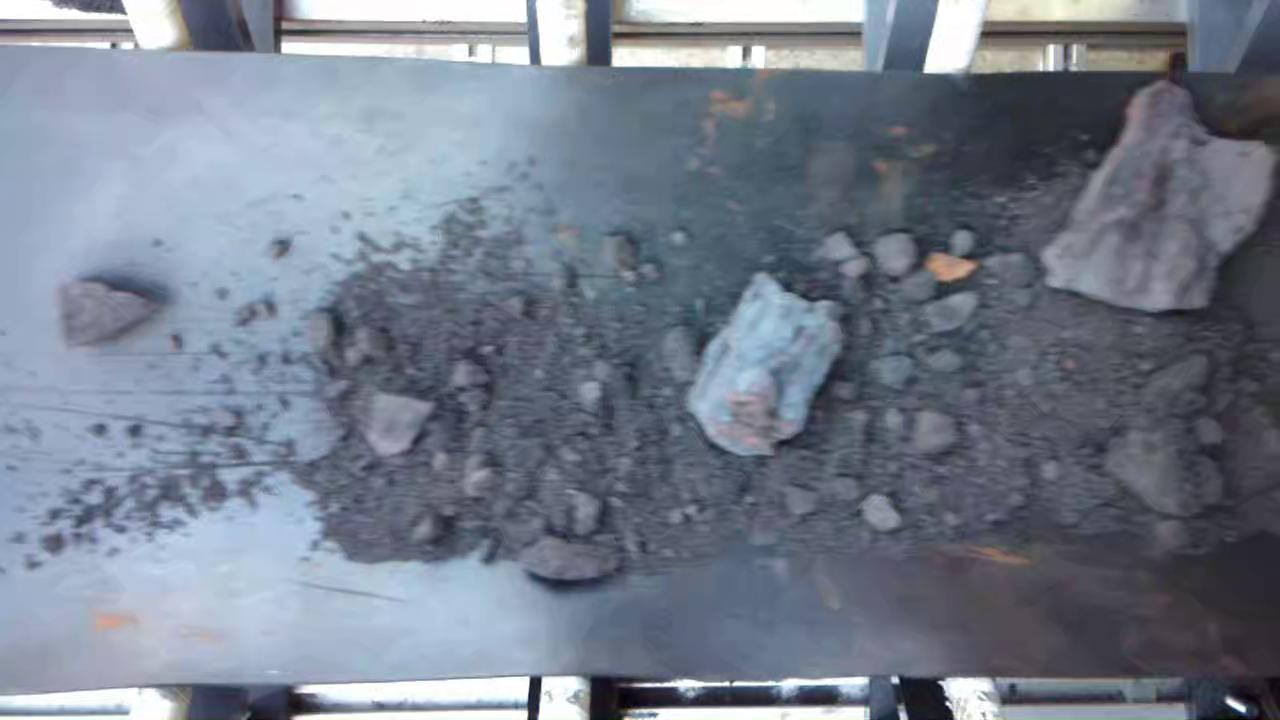conveyor: (6, 78, 1280, 667)
